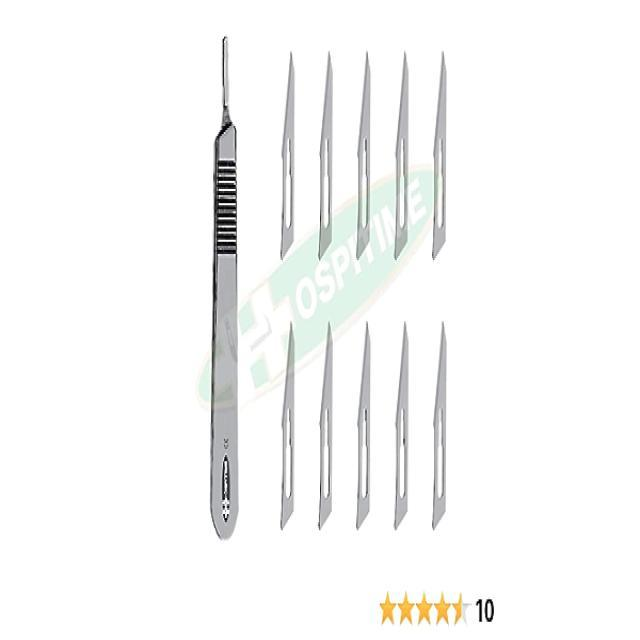Knife handle: (204, 29, 251, 550)
Surgical blade: (273, 44, 299, 264), (314, 48, 339, 262), (353, 46, 376, 266), (391, 319, 414, 536), (278, 310, 300, 534), (430, 319, 452, 537), (392, 49, 414, 262), (430, 49, 452, 262), (316, 315, 336, 537), (355, 320, 375, 535)
